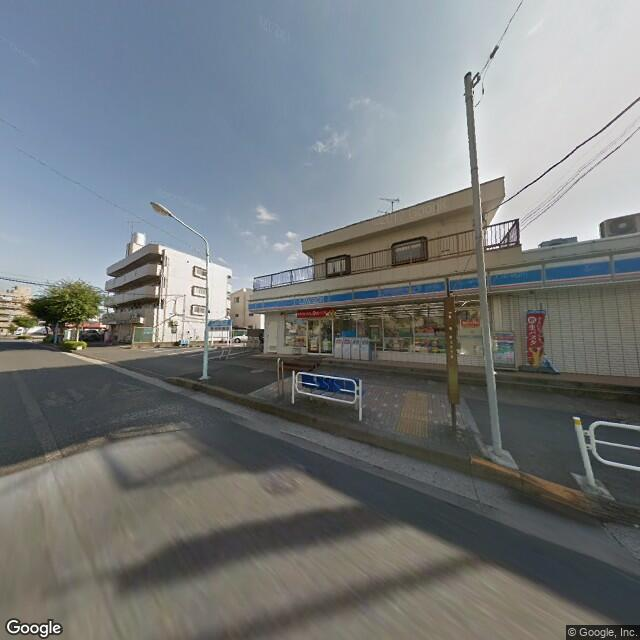lawson: (247, 246, 639, 315)
